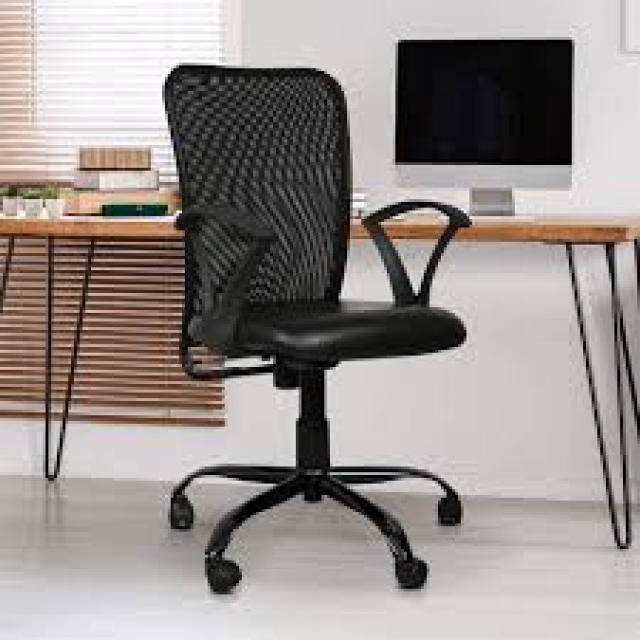chair: (157, 56, 472, 596)
